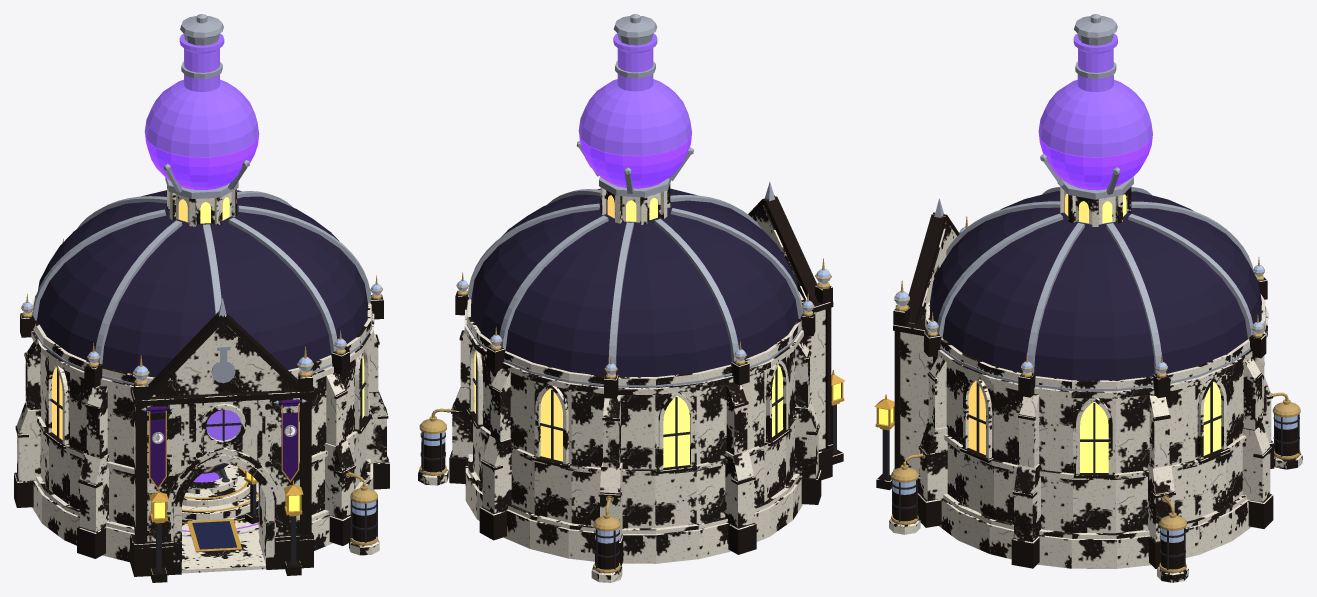
File: ILHA3_16_CRAFT_4ec5f0.fbx
3 views of the same model, side by side, from view 1: azimuth 30°, elevation 25°; view 2: azimuth 150°, elevation 25°; view 3: azimuth 270°, elevation 25° (orthographic).
Parts seen in each view (by area): view 1: SG_Craft_Dome__Roof_SG_Navy, SG_Craft_Shell__Stone_SGCraftDark, SG_Craft_Shell__Stone_SG_Obsidian, SG_Craft_Shell__Stone_SG_Violet, SG_Craft_Shell__Stone_SG_Castle, SG_Craft_Dome__Metal_SG_Silver, SG_Craft_Dome__Glass_SG_Rose, SG_Craft_Dome__SG_VioletDeep_Glow, SG_Craft_Shell__Cloth_SG_Purple, SG_Craft_Shell__Metal_SG_BlackIron, SG_Craft_Furnishings__Stone_SG_MarbleBlack, SG_Craft_Shell__Metal_Gold (+12 smaller); view 2: SG_Craft_Dome__Roof_SG_Navy, SG_Craft_Shell__Stone_SGCraftDark, SG_Craft_Shell__Stone_SG_Obsidian, SG_Craft_Shell__Stone_SG_Violet, SG_Craft_Shell__Stone_SG_Castle, SG_Craft_Dome__Metal_SG_Silver, SG_Craft_Dome__Glass_SG_Rose, SG_Craft_Shell__Window_Warm, SG_Craft_Dome__SG_VioletDeep_Glow, SG_Craft_Shell__Metal_Brass, SG_Craft_Shell__Metal_SG_BlackIron, SG_Craft_Shell__Glass_SGCraftPale (+4 smaller); view 3: SG_Craft_Dome__Roof_SG_Navy, SG_Craft_Shell__Stone_SGCraftDark, SG_Craft_Shell__Stone_SG_Obsidian, SG_Craft_Shell__Stone_SG_Violet, SG_Craft_Shell__Stone_SG_Castle, SG_Craft_Dome__Metal_SG_Silver, SG_Craft_Dome__Glass_SG_Rose, SG_Craft_Shell__Window_Warm, SG_Craft_Dome__SG_VioletDeep_Glow, SG_Craft_Shell__Metal_Brass, SG_Craft_Shell__Metal_SG_BlackIron, SG_Craft_Shell__Glass_SGCraftPale (+4 smaller).
Part boxes in pixels (<box>): SG_Craft_Dome__Roof_SG_Navy: <box>37,190,367,377</box>; SG_Craft_Shell__Stone_SGCraftDark: <box>40,322,376,564</box>; SG_Craft_Shell__Stone_SG_Obsidian: <box>14,311,389,582</box>; SG_Craft_Shell__Stone_SG_Violet: <box>15,294,388,562</box>; SG_Craft_Shell__Stone_SG_Castle: <box>17,333,386,531</box>; SG_Craft_Dome__Metal_SG_Silver: <box>32,14,371,364</box>; SG_Craft_Dome__Glass_SG_Rose: <box>144,33,259,157</box>; SG_Craft_Dome__SG_VioletDeep_Glow: <box>145,133,258,190</box>; SG_Craft_Shell__Cloth_SG_Purple: <box>148,399,299,486</box>; SG_Craft_Shell__Metal_SG_BlackIron: <box>50,358,377,571</box>; SG_Craft_Furnishings__Stone_SG_MarbleBlack: <box>182,466,259,545</box>; SG_Craft_Shell__Metal_Gold: <box>148,403,303,523</box>; SG_Craft_Dome__Roof_SG_Navy: <box>471,188,798,376</box>; SG_Craft_Shell__Stone_SGCraftDark: <box>421,205,825,569</box>; SG_Craft_Shell__Stone_SG_Obsidian: <box>418,300,843,582</box>; SG_Craft_Shell__Stone_SG_Violet: <box>451,195,832,534</box>; SG_Craft_Shell__Stone_SG_Castle: <box>452,330,818,540</box>; SG_Craft_Dome__Metal_SG_Silver: <box>467,14,802,374</box>; SG_Craft_Dome__Glass_SG_Rose: <box>578,33,691,155</box>; SG_Craft_Shell__Window_Warm: <box>474,351,782,467</box>; SG_Craft_Dome__SG_VioletDeep_Glow: <box>579,133,691,188</box>; SG_Craft_Shell__Metal_Brass: <box>419,258,831,573</box>; SG_Craft_Shell__Metal_SG_BlackIron: <box>420,356,836,569</box>; SG_Craft_Shell__Glass_SGCraftPale: <box>421,269,830,543</box>; SG_Craft_Dome__Roof_SG_Navy: <box>929,191,1261,380</box>; SG_Craft_Shell__Stone_SGCraftDark: <box>892,222,1297,569</box>; SG_Craft_Shell__Stone_SG_Obsidian: <box>876,308,1302,582</box>; SG_Craft_Shell__Stone_SG_Violet: <box>893,212,1272,538</box>; SG_Craft_Shell__Stone_SG_Castle: <box>920,356,1271,541</box>; SG_Craft_Dome__Metal_SG_Silver: <box>936,14,1254,373</box>; SG_Craft_Dome__Glass_SG_Rose: <box>1038,33,1152,157</box>; SG_Craft_Shell__Window_Warm: <box>968,381,1221,472</box>; SG_Craft_Dome__SG_VioletDeep_Glow: <box>1039,134,1152,190</box>; SG_Craft_Shell__Metal_Brass: <box>891,216,1300,572</box>; SG_Craft_Shell__Metal_SG_BlackIron: <box>882,382,1299,569</box>; SG_Craft_Shell__Glass_SGCraftPale: <box>892,227,1297,542</box>.
Size of the model in its own units: 36.4 by 50.28 by 40.45.
24 materials, 3 textured.
